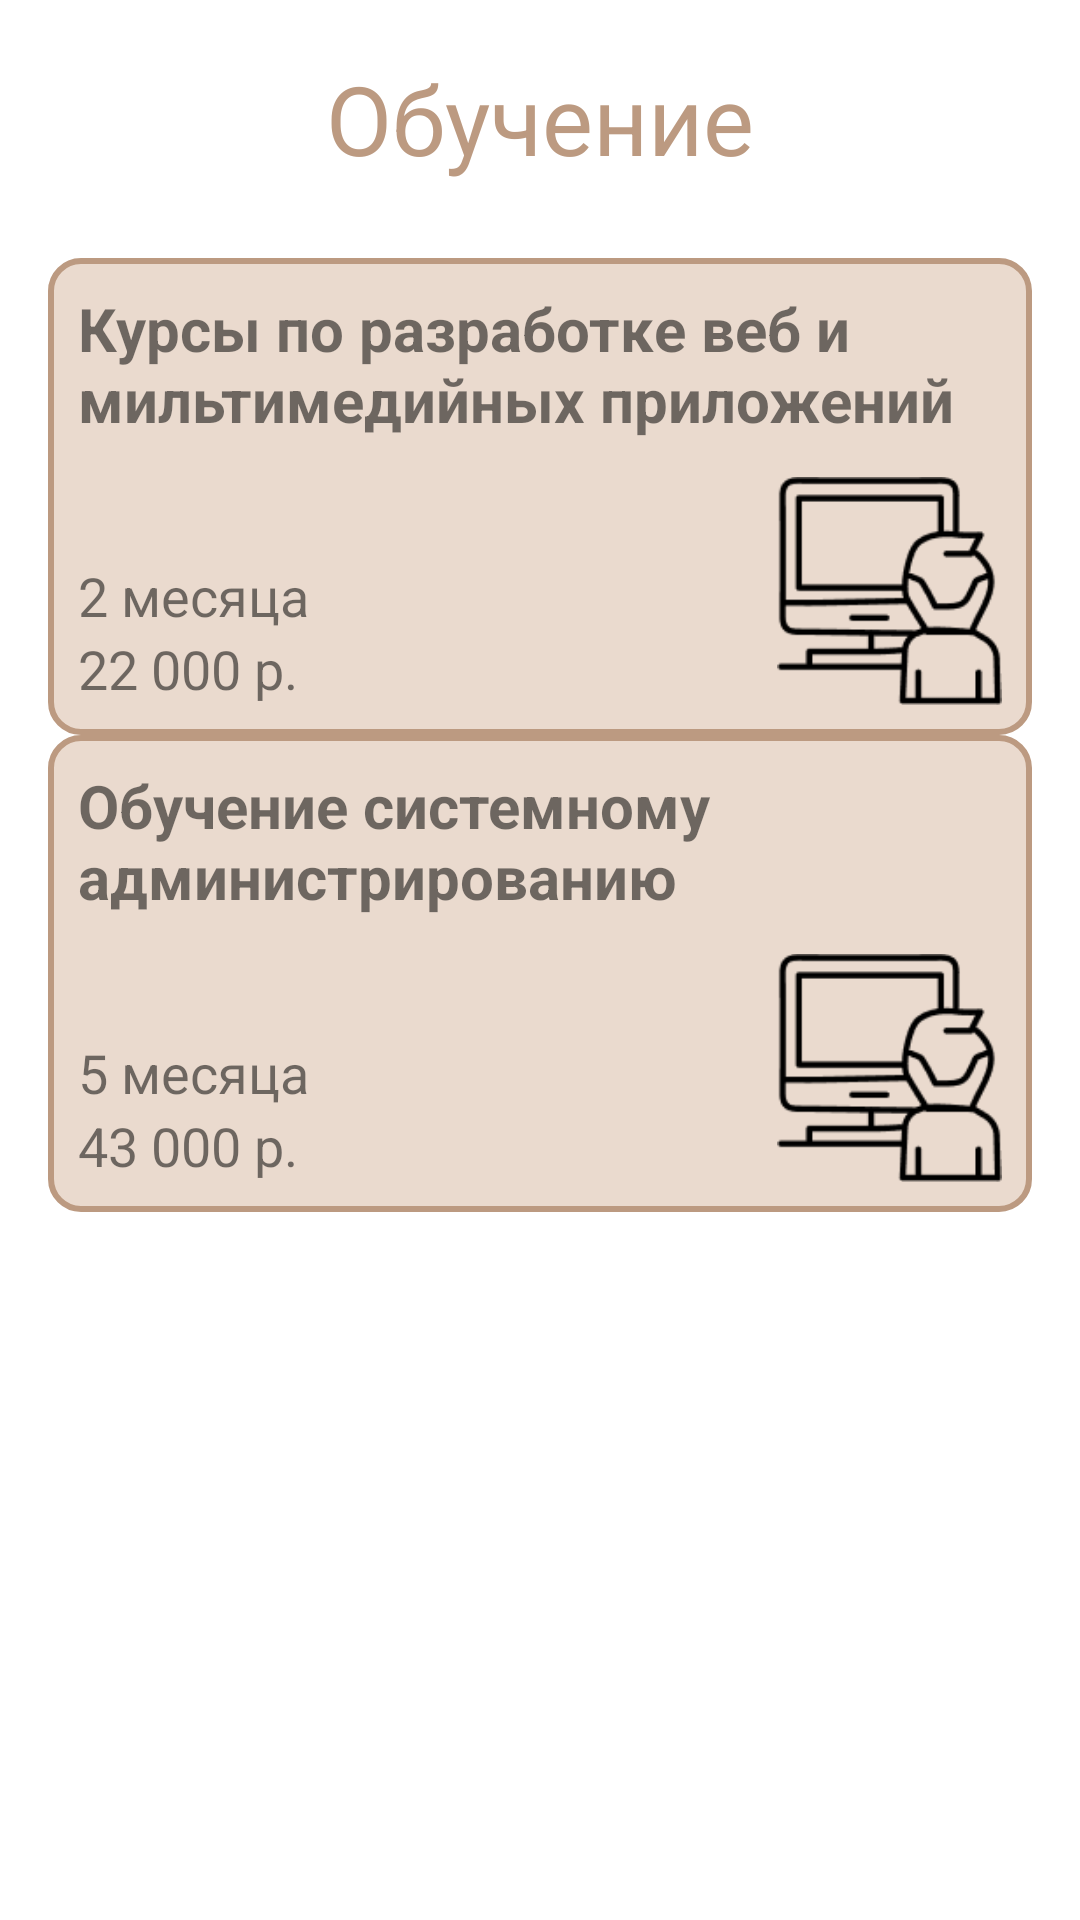

Named icons in this screenshot (1080x1920) and their centers, [x,y]:
study: [889,591], [889,1068]
